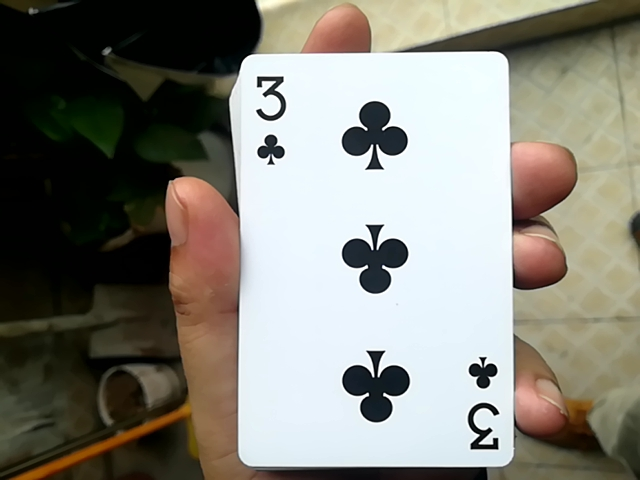mh 3: (216, 41, 520, 470)
